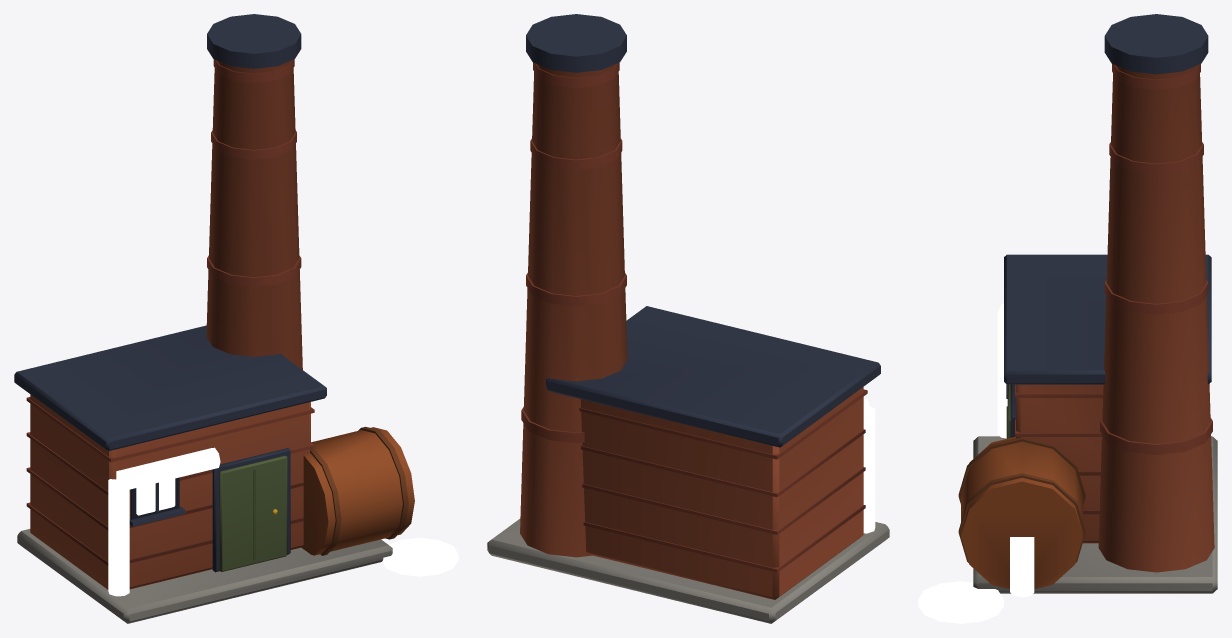
Rendered from lm_sumpf.glb.
3 views of the same model, side by side, from view 1: azimuth 30°, elevation 25°; view 2: azimuth 150°, elevation 25°; view 3: azimuth 270°, elevation 25° (orthographic). The views are drawn at different scales.
Visible parts, largest first — view 1: body, pipe_glow, win_glow; view 2: body, pipe_glow; view 3: body, pipe_glow.
Part boxes in pixels (x1,y1,x2,y2): body: (14, 14, 414, 623); pipe_glow: (108, 447, 458, 596); win_glow: (136, 478, 175, 515); body: (487, 14, 889, 623); pipe_glow: (863, 398, 875, 533); body: (958, 14, 1217, 593); pipe_glow: (918, 303, 1034, 623).
Size of the model in its own units: 6.8 by 9.55 by 4.9.
